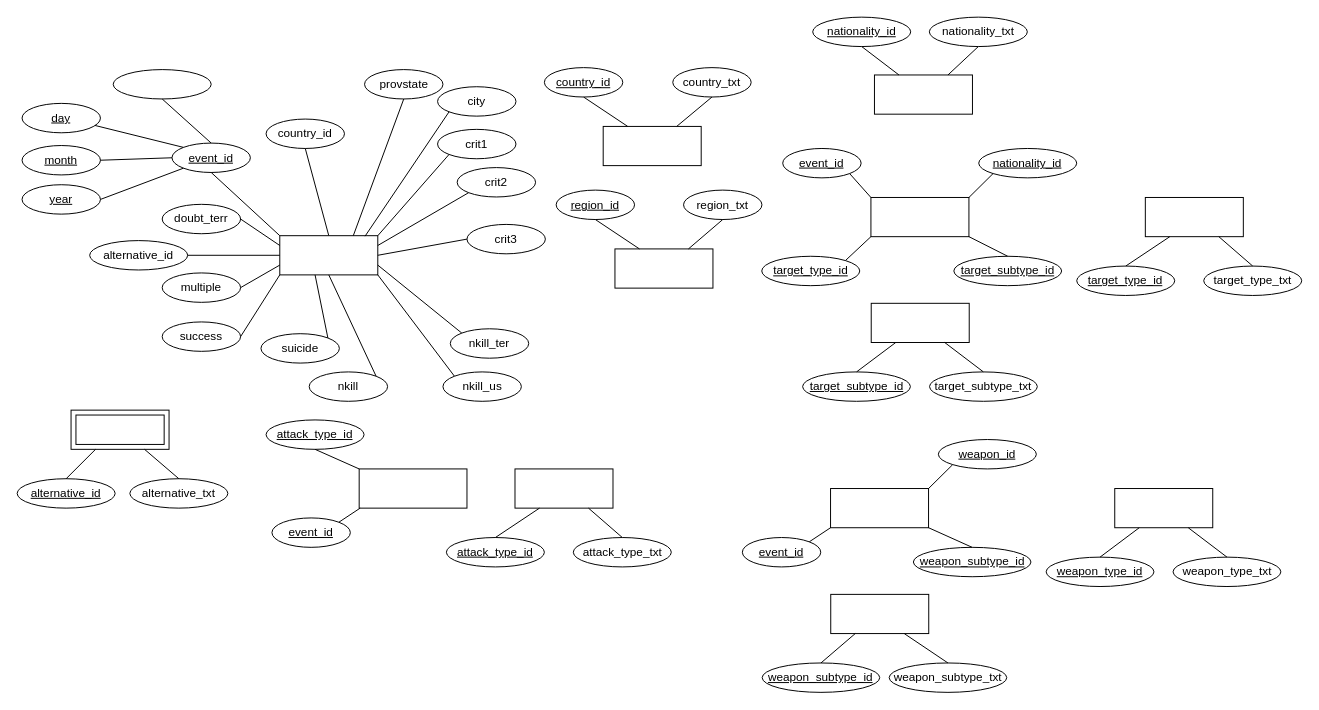
Some shapes in this 1319 by 710 pixel diagram are drawn without their labels. Here are the shapes that lost their labels. From the top down, the box of each, then its label:
(112, 69, 211, 99): case_number
(873, 74, 972, 114): nationality
(602, 125, 701, 166): country
(870, 196, 969, 237): event_target
(1144, 196, 1243, 237): target_type
(279, 235, 378, 275): terrorism_event
(614, 248, 713, 288): region
(870, 302, 969, 343): target_subtype
(70, 409, 169, 449): alternative_dsn
(358, 468, 467, 508): event_attack_type
(514, 468, 613, 508): attack_type
(830, 488, 929, 528): event_weapon
(1114, 488, 1213, 528): weapon_type
(830, 593, 929, 634): weapon_subtype
